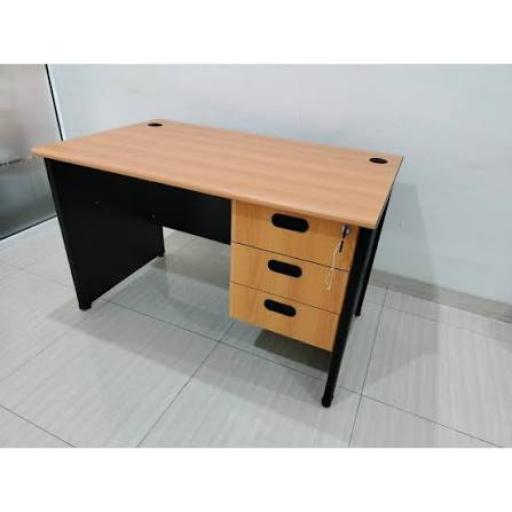meja: (33, 118, 408, 412)
